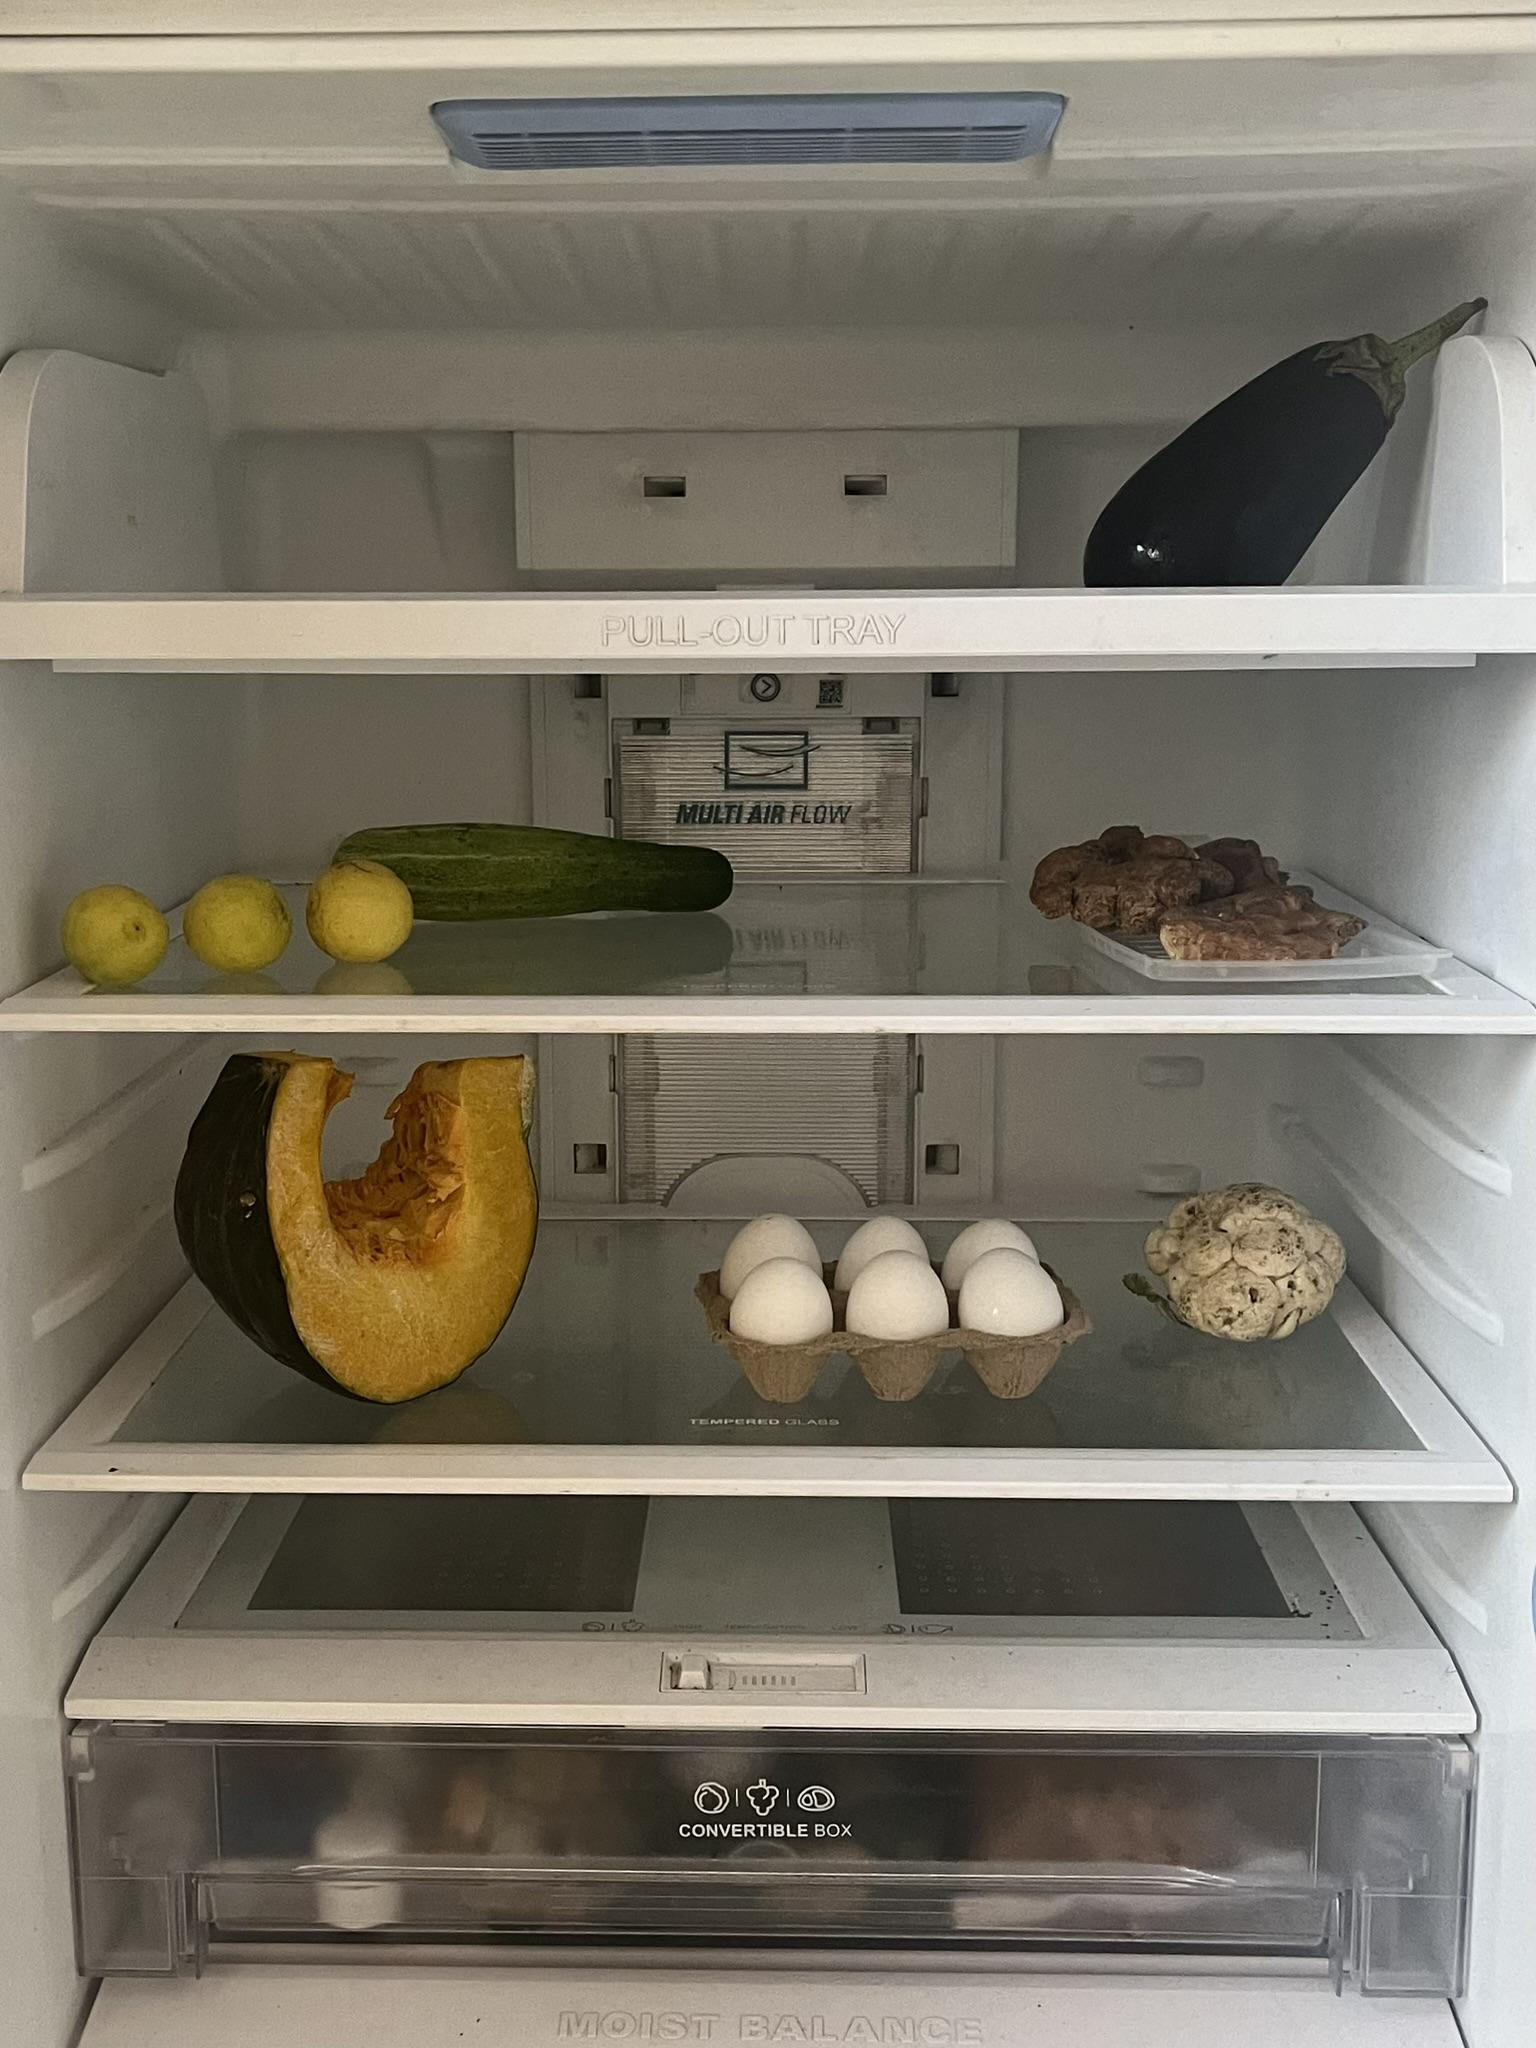bringal: (1080, 283, 1493, 587)
cauliflower: (1147, 1180, 1350, 1347)
cucumber: (333, 813, 750, 913)
egg: (707, 1203, 1077, 1390)
ginger: (1040, 807, 1370, 967)
lemon: (57, 883, 173, 993), (310, 860, 417, 970), (173, 877, 290, 970)
pumpkin: (170, 1037, 553, 1410)
